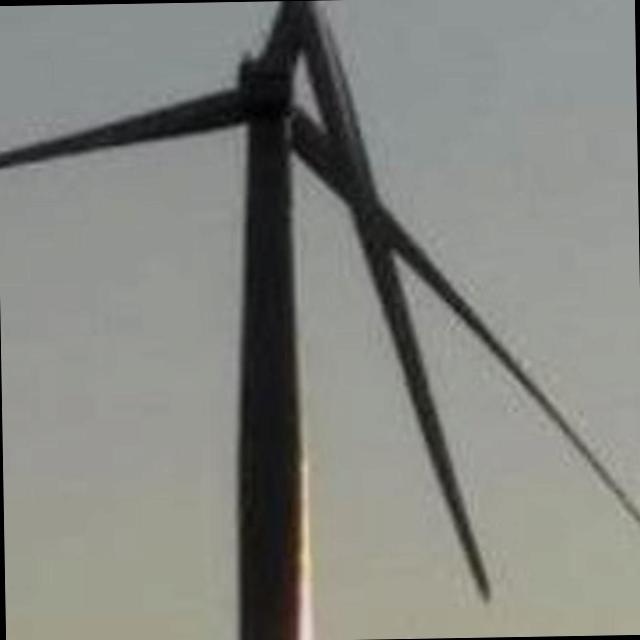crack: (234, 0, 511, 614)
